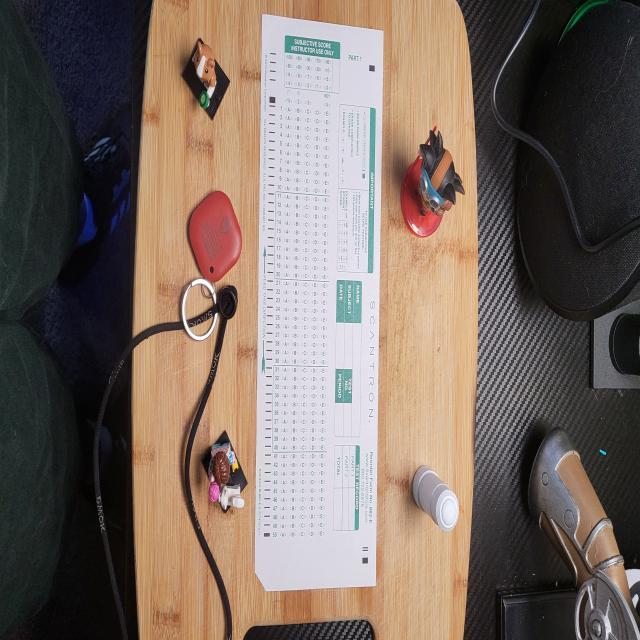scantron: (255, 14, 384, 592)
